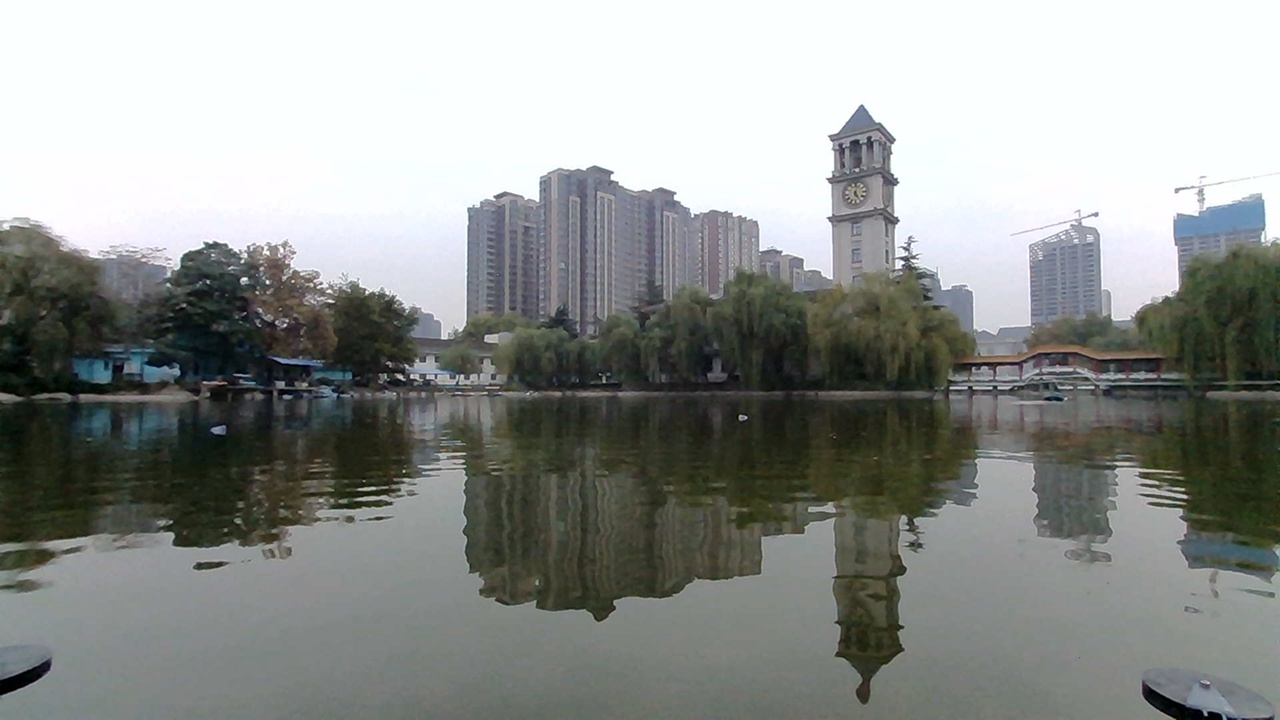bottle: (201, 411, 250, 448), (724, 399, 767, 428)
